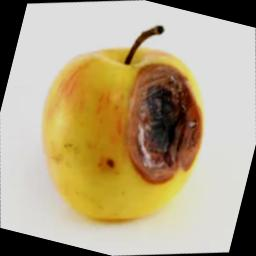Apple Rotten: (18, 0, 237, 248)
